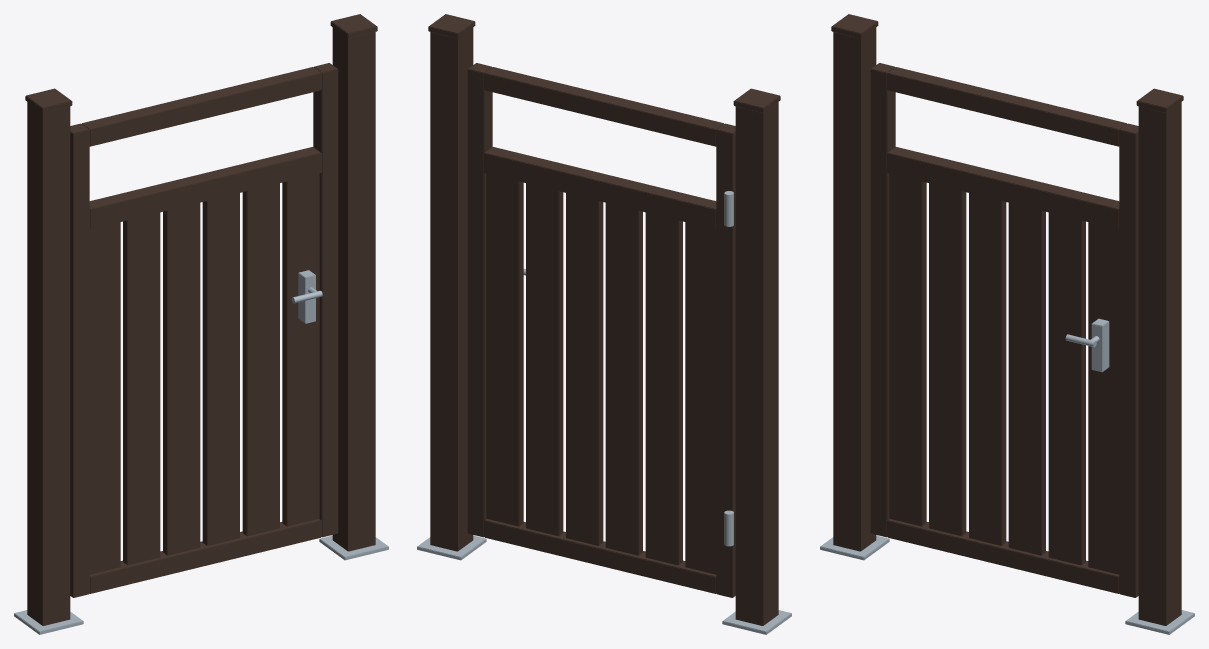
The model's file is 12-pesacka.glb.
3 views of the same model, side by side, from view 1: azimuth 30°, elevation 25°; view 2: azimuth 150°, elevation 25°; view 3: azimuth 330°, elevation 25° (orthographic).
Visible parts, largest first — view 1: Stub_levi.044, Stub_desni.044, Ispuna_vertikalna_prava.001, Ispuna_vertikalna_prava.002, Ispuna_vertikalna_prava.003, Ispuna_vertikalna_prava.004, Ispuna_vertikalna_prava.005, Ispuna_vertikalna_prava, Ram_bocni.081, Ram_bocni.080, Ram_poprecni_ispod_otvora, Ram_gornji.035 (+6 smaller); view 2: Stub_levi.044, Stub_desni.044, Ispuna_vertikalna_prava.001, Ispuna_vertikalna_prava.002, Ispuna_vertikalna_prava.005, Ispuna_vertikalna_prava.003, Ispuna_vertikalna_prava.004, Ispuna_vertikalna_prava, Ram_bocni.081, Ram_bocni.080, Ram_poprecni_ispod_otvora, Ram_gornji.035 (+5 smaller); view 3: Stub_desni.044, Stub_levi.044, Ispuna_vertikalna_prava.003, Ispuna_vertikalna_prava, Ispuna_vertikalna_prava.002, Ispuna_vertikalna_prava.001, Ispuna_vertikalna_prava.004, Ispuna_vertikalna_prava.005, Ram_bocni.080, Ram_bocni.081, Ram_poprecni_ispod_otvora, Ram_gornji.035 (+6 smaller).
Boxes of the visible parts, left/top/right/bottom form: Stub_levi.044: left=27, top=102, right=70, bottom=625; Stub_desni.044: left=332, top=27, right=375, bottom=551; Ispuna_vertikalna_prava.001: left=123, top=212, right=160, bottom=565; Ispuna_vertikalna_prava.002: left=163, top=202, right=200, bottom=555; Ispuna_vertikalna_prava.003: left=202, top=193, right=239, bottom=545; Ispuna_vertikalna_prava.004: left=242, top=183, right=279, bottom=536; Ispuna_vertikalna_prava.005: left=282, top=173, right=319, bottom=526; Ispuna_vertikalna_prava: left=89, top=222, right=120, bottom=574; Ram_bocni.081: left=313, top=63, right=338, bottom=537; Ram_bocni.080: left=70, top=123, right=89, bottom=597; Ram_poprecni_ispod_otvora: left=89, top=147, right=321, bottom=229; Ram_gornji.035: left=82, top=67, right=321, bottom=146; Stub_levi.044: left=735, top=102, right=778, bottom=625; Stub_desni.044: left=430, top=27, right=473, bottom=551; Ispuna_vertikalna_prava.001: left=645, top=212, right=682, bottom=565; Ispuna_vertikalna_prava.002: left=605, top=202, right=642, bottom=555; Ispuna_vertikalna_prava.005: left=486, top=173, right=523, bottom=526; Ispuna_vertikalna_prava.003: left=566, top=193, right=603, bottom=545; Ispuna_vertikalna_prava.004: left=526, top=183, right=563, bottom=536; Ispuna_vertikalna_prava: left=685, top=222, right=716, bottom=574; Ram_bocni.081: left=467, top=63, right=492, bottom=537; Ram_bocni.080: left=716, top=123, right=735, bottom=597; Ram_poprecni_ispod_otvora: left=484, top=147, right=716, bottom=229; Ram_gornji.035: left=484, top=67, right=723, bottom=146; Stub_desni.044: left=1138, top=102, right=1181, bottom=625; Stub_levi.044: left=833, top=27, right=876, bottom=551; Ispuna_vertikalna_prava.003: left=1008, top=202, right=1045, bottom=555; Ispuna_vertikalna_prava: left=889, top=173, right=926, bottom=526; Ispuna_vertikalna_prava.002: left=969, top=193, right=1006, bottom=545; Ispuna_vertikalna_prava.001: left=929, top=183, right=966, bottom=536; Ispuna_vertikalna_prava.004: left=1048, top=212, right=1085, bottom=565; Ispuna_vertikalna_prava.005: left=1088, top=222, right=1119, bottom=574; Ram_bocni.080: left=870, top=63, right=895, bottom=537; Ram_bocni.081: left=1119, top=123, right=1138, bottom=597; Ram_poprecni_ispod_otvora: left=887, top=147, right=1119, bottom=229; Ram_gornji.035: left=887, top=67, right=1126, bottom=146.
Bounding box in the file's own units: 1.26 × 1.8 × 0.19.
